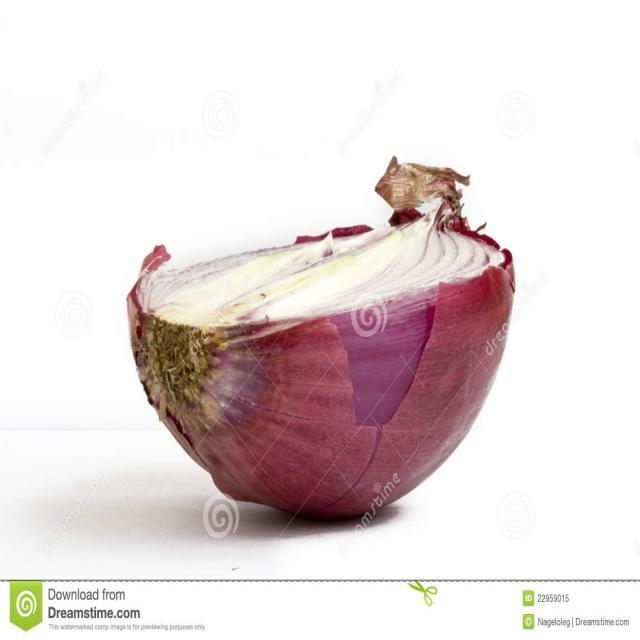onion: (110, 193, 525, 530)
